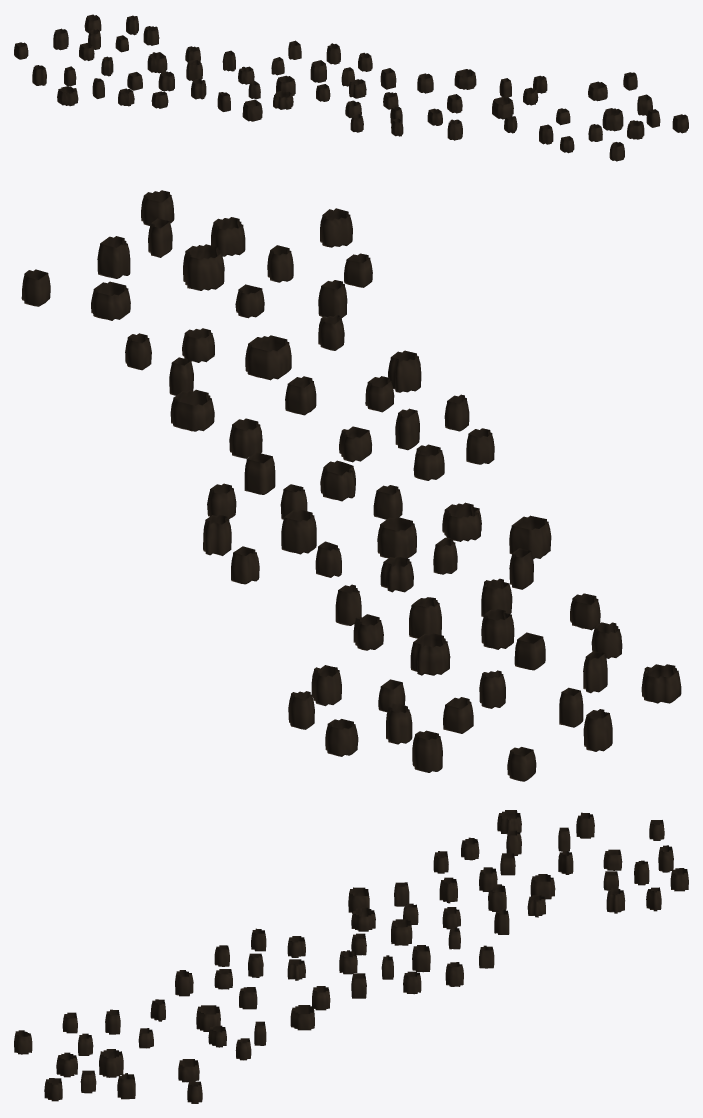
The model's file is PantanoPozos.glb.
3 views of the same model, one above another, from view 1: azimuth 30°, elevation 25°; view 2: azimuth 150°, elevation 25°; view 3: azimuth 270°, elevation 25° (orthographic). The views are drawn at different scales.
Visible parts, largest first — view 1: PozoTrampa58, PozoTrampa50, PozoTrampa39, PozoTrampa34, PozoTrampa12, PozoTrampa15, PozoTrampa33, PozoTrampa27, PozoTrampa52, PozoTrampa18, PozoTrampa37, PozoTrampa30 (+24 smaller); view 2: PozoTrampa50, PozoTrampa58, PozoTrampa39, PozoTrampa30, PozoTrampa12, PozoTrampa34, PozoTrampa27, PozoTrampa15, PozoTrampa33, PozoTrampa52, PozoTrampa37, PozoTrampa56 (+40 smaller); view 3: PozoTrampa58, PozoTrampa39, PozoTrampa50, PozoTrampa30, PozoTrampa12, PozoTrampa33, PozoTrampa15, PozoTrampa27, PozoTrampa62, PozoTrampa52, PozoTrampa18, PozoTrampa34 (+2 smaller).
Part boxes in pixels (x1=…): PozoTrampa58: x1=602, y1=108, x2=623, y2=131; PozoTrampa50: x1=492, y1=96, x2=513, y2=119; PozoTrampa39: x1=454, y1=69, x2=476, y2=89; PozoTrampa34: x1=242, y1=99, x2=262, y2=121; PozoTrampa12: x1=147, y1=52, x2=167, y2=73; PozoTrampa15: x1=57, y1=86, x2=78, y2=106; PozoTrampa33: x1=273, y1=91, x2=293, y2=109; PozoTrampa27: x1=310, y1=60, x2=326, y2=82; PozoTrampa52: x1=588, y1=81, x2=607, y2=101; PozoTrampa18: x1=186, y1=60, x2=202, y2=80; PozoTrampa37: x1=349, y1=79, x2=366, y2=98; PozoTrampa30: x1=276, y1=75, x2=295, y2=95; PozoTrampa50: x1=245, y1=335, x2=291, y2=380; PozoTrampa58: x1=183, y1=244, x2=224, y2=290; PozoTrampa39: x1=170, y1=389, x2=214, y2=431; PozoTrampa30: x1=377, y1=516, x2=416, y2=558; PozoTrampa12: x1=410, y1=633, x2=450, y2=675; PozoTrampa34: x1=509, y1=515, x2=551, y2=559; PozoTrampa27: x1=281, y1=509, x2=316, y2=554; PozoTrampa15: x1=641, y1=664, x2=681, y2=703; PozoTrampa33: x1=442, y1=502, x2=481, y2=541; PozoTrampa52: x1=91, y1=281, x2=130, y2=320; PozoTrampa37: x1=320, y1=460, x2=355, y2=501; PozoTrampa56: x1=97, y1=236, x2=130, y2=278; PozoTrampa58: x1=99, y1=1049, x2=123, y2=1077; PozoTrampa39: x1=290, y1=1005, x2=314, y2=1030; PozoTrampa50: x1=196, y1=1005, x2=220, y2=1031; PozoTrampa30: x1=391, y1=919, x2=412, y2=945; PozoTrampa12: x1=530, y1=874, x2=555, y2=899; PozoTrampa33: x1=351, y1=907, x2=375, y2=931; PozoTrampa15: x1=497, y1=810, x2=521, y2=833; PozoTrampa27: x1=412, y1=945, x2=430, y2=972; PozoTrampa62: x1=56, y1=1052, x2=77, y2=1077; PozoTrampa52: x1=178, y1=1059, x2=199, y2=1082; PozoTrampa18: x1=488, y1=884, x2=506, y2=911; PozoTrampa34: x1=348, y1=887, x2=369, y2=913.
Size of the model in its own units: 187 by 7.32 by 192.
